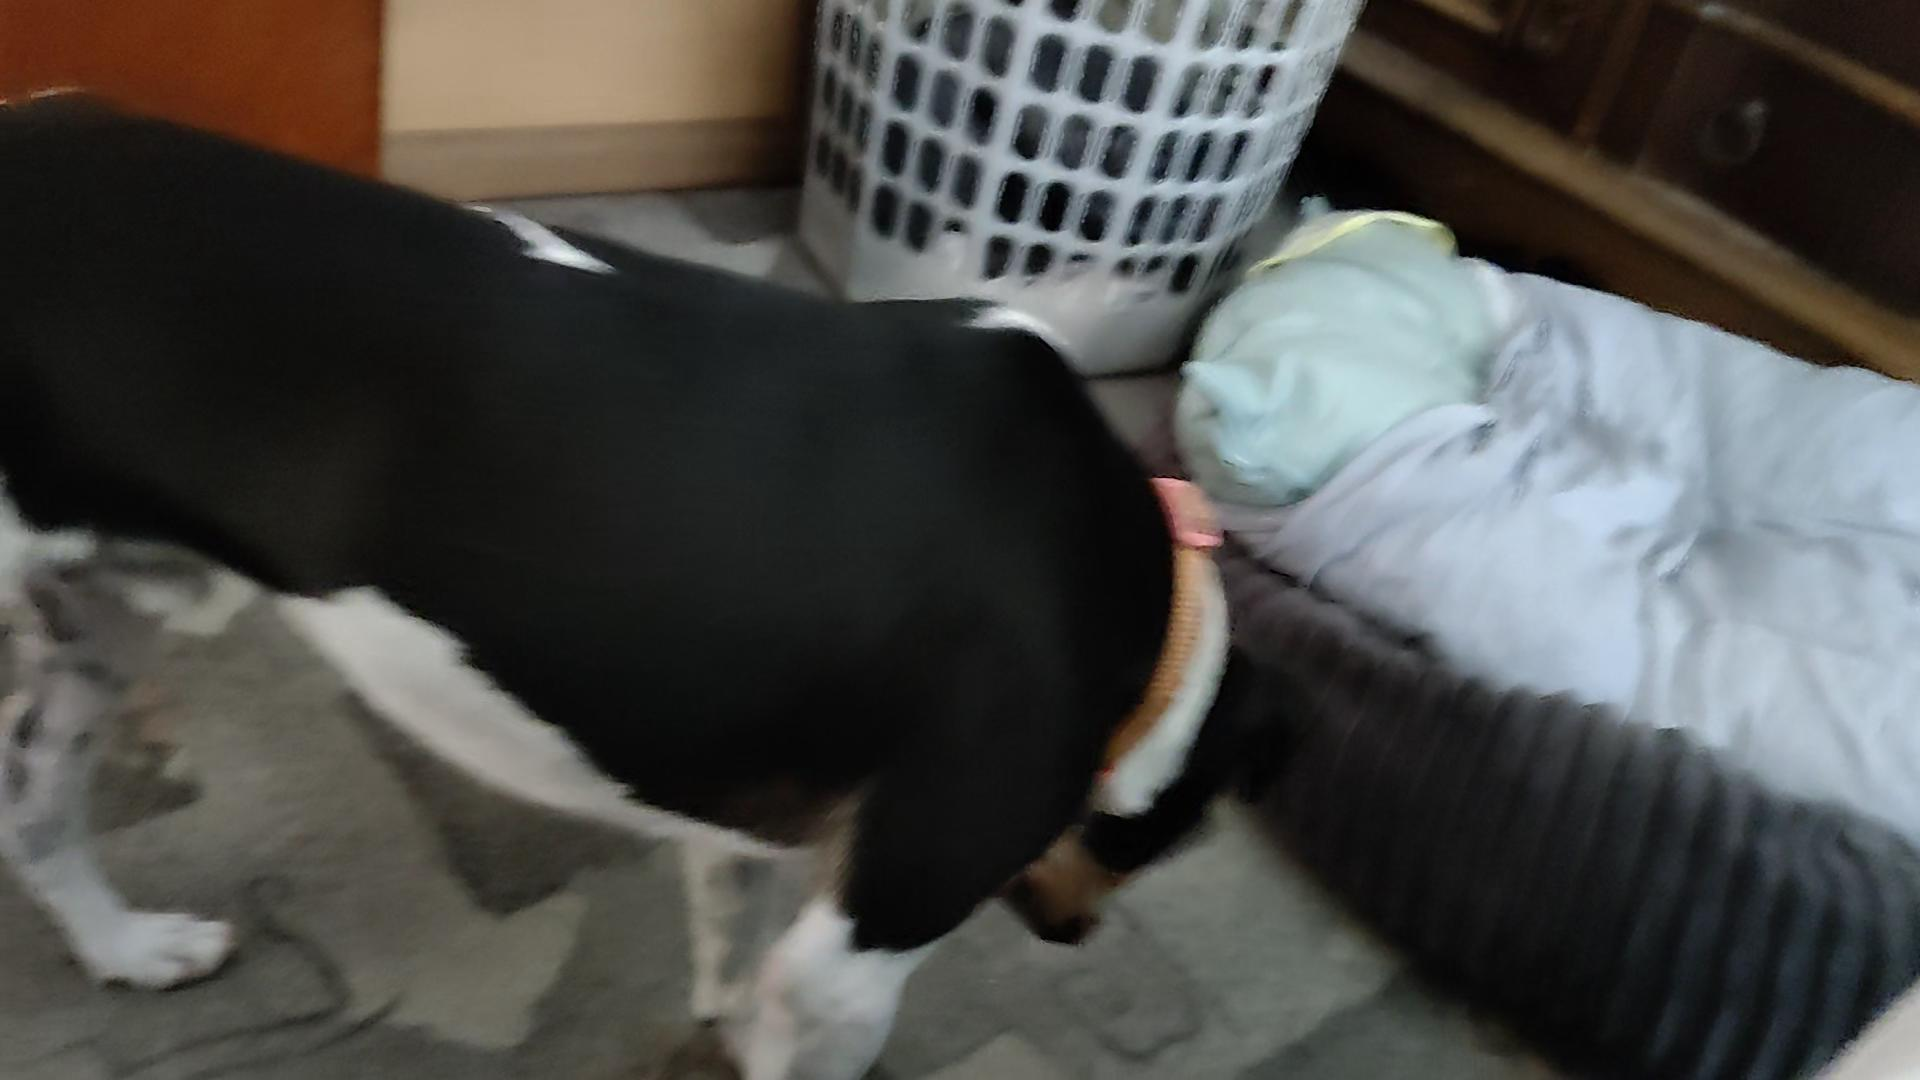Dog: (0, 76, 1329, 1079)
